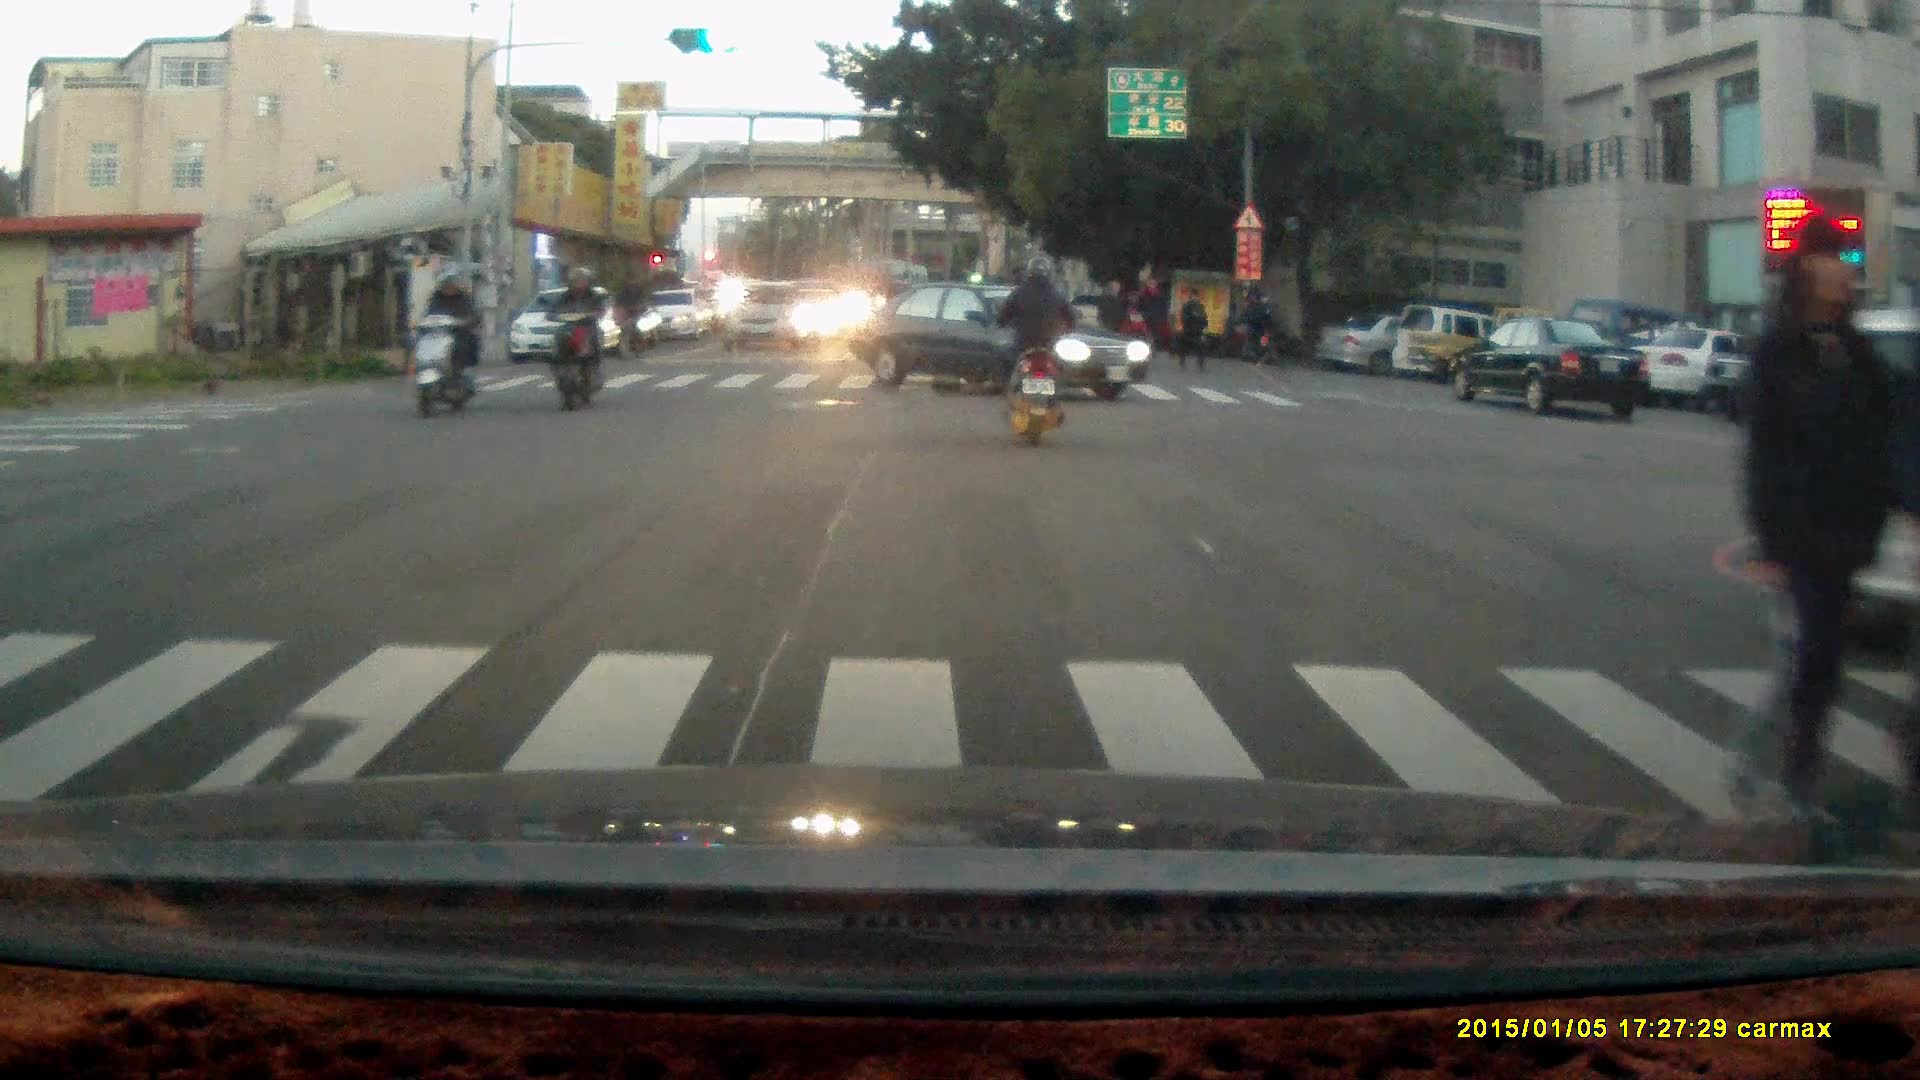pedestrian: (1720, 215, 1896, 830), (1132, 271, 1167, 361), (1176, 283, 1209, 376), (1241, 288, 1272, 365), (1098, 279, 1128, 361)
rider: (991, 253, 1077, 447), (409, 262, 480, 418), (538, 264, 608, 414), (614, 267, 652, 365)
vehicle: (843, 274, 1151, 404), (1458, 316, 1657, 416), (1619, 321, 1806, 411), (1314, 311, 1494, 373), (511, 287, 630, 367), (726, 280, 820, 359)
